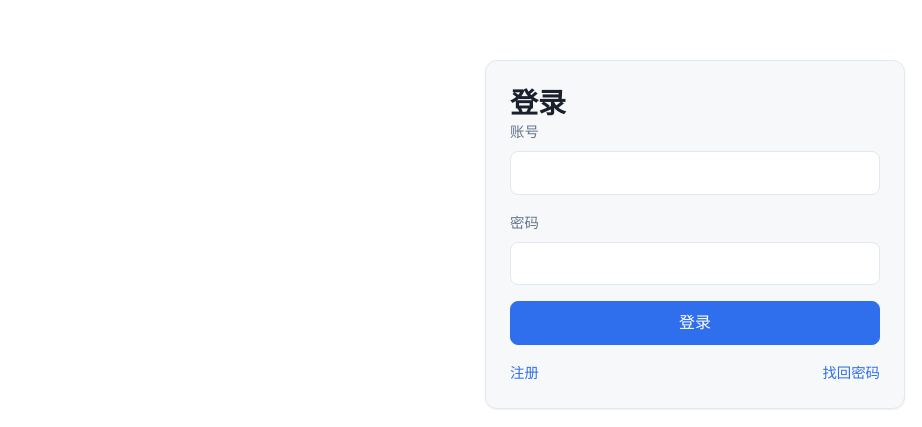
Test case: AuthPage › returns to a safe protected page after login
Type "alice" into the field labelled "账号" at (695,173), box [510,151,880,195]
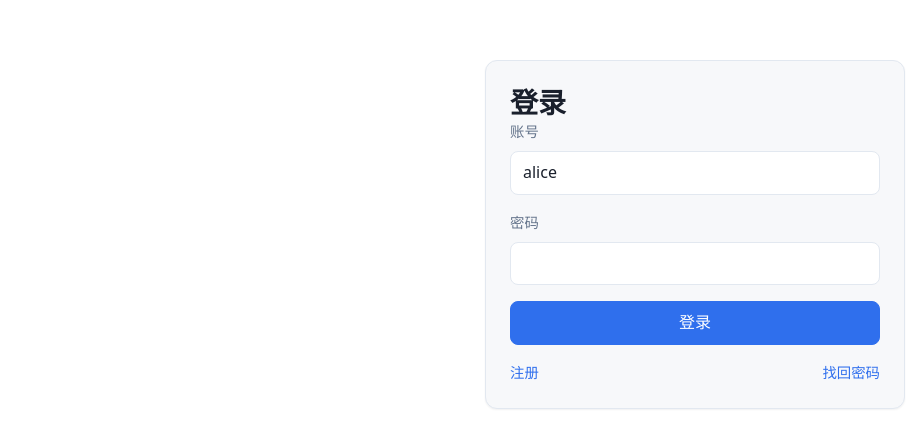
Type "password-123" into the password field labelled "密码" at (695,264), box [510,242,880,285]
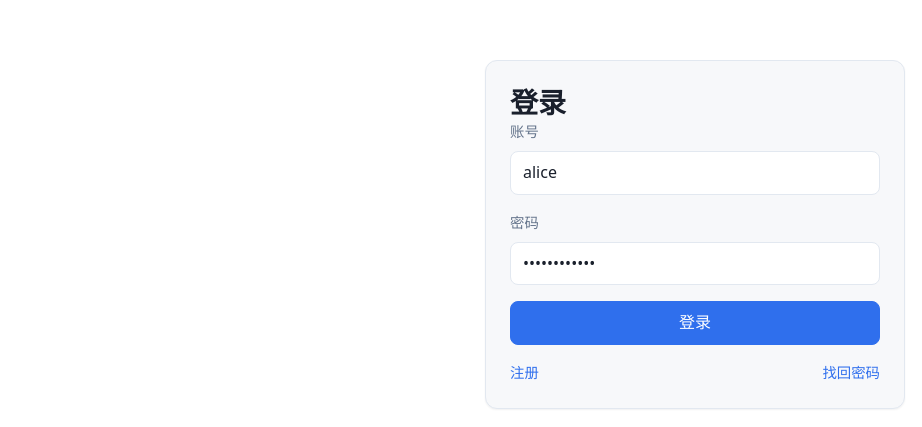
Click the button "登录" at (695,323), box [510,301,880,345]
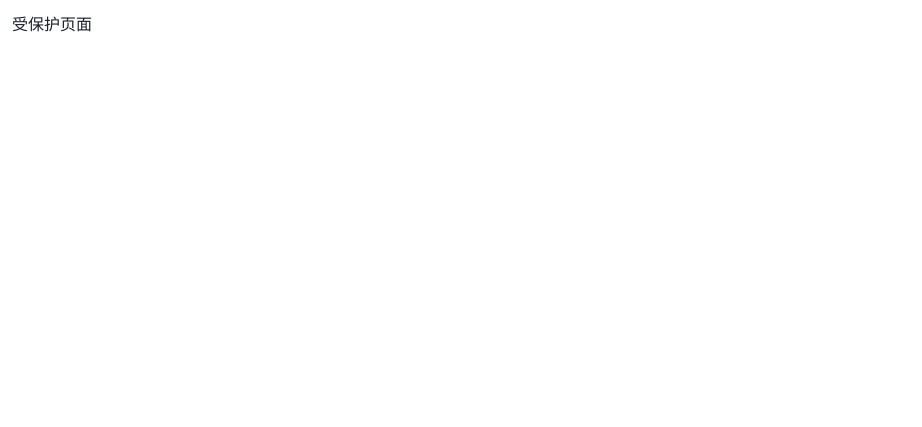
Result: the text "受保护页面" is shown at [12,13,92,35]
